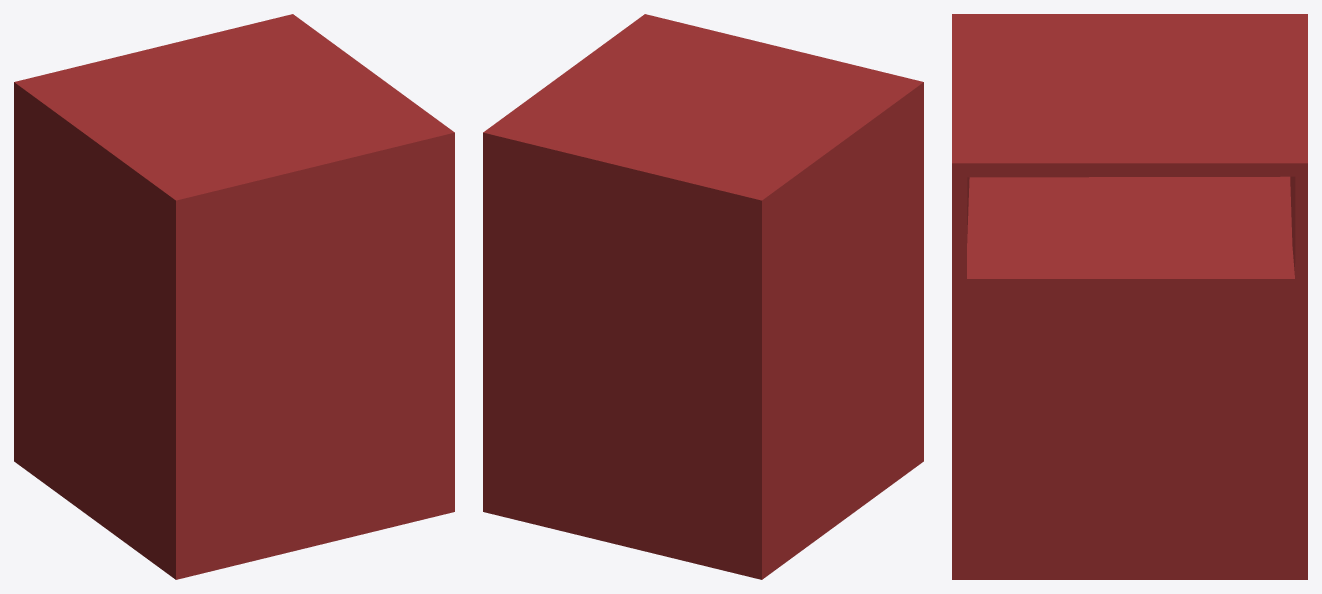
The model's file is stage2_box_obituary_low.fbx.
3 views of the same model, side by side, from view 1: azimuth 30°, elevation 25°; view 2: azimuth 150°, elevation 25°; view 3: azimuth 270°, elevation 25° (orthographic). The views are drawn at different scales.
Parts seen in each view (by area): view 1: Plane003; view 2: Plane003; view 3: Plane003.
Boxes of the visible parts, bbox=[...] form: Plane003: bbox=[14, 14, 454, 579]; Plane003: bbox=[483, 14, 923, 579]; Plane003: bbox=[952, 14, 1307, 579].
Bounding box in the file's own units: 513 × 667 × 516.
